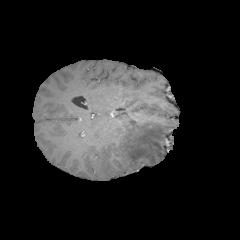glioma: (117, 119, 172, 169)
